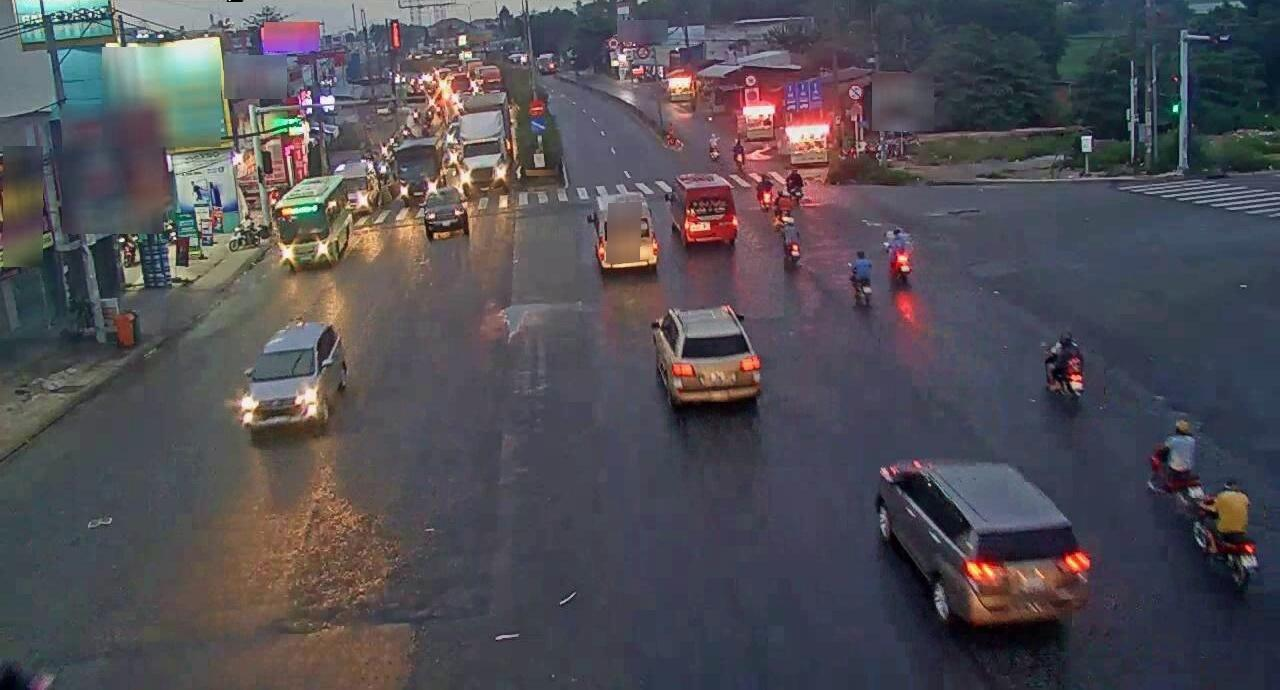xe hoi: (857, 451, 1115, 628), (237, 313, 350, 435), (653, 302, 763, 410), (1145, 410, 1208, 508)
xe may: (1189, 474, 1256, 590), (1044, 328, 1089, 410), (881, 226, 914, 284), (847, 248, 876, 311), (779, 212, 806, 267)
xe van: (666, 166, 740, 247), (589, 188, 661, 271)
